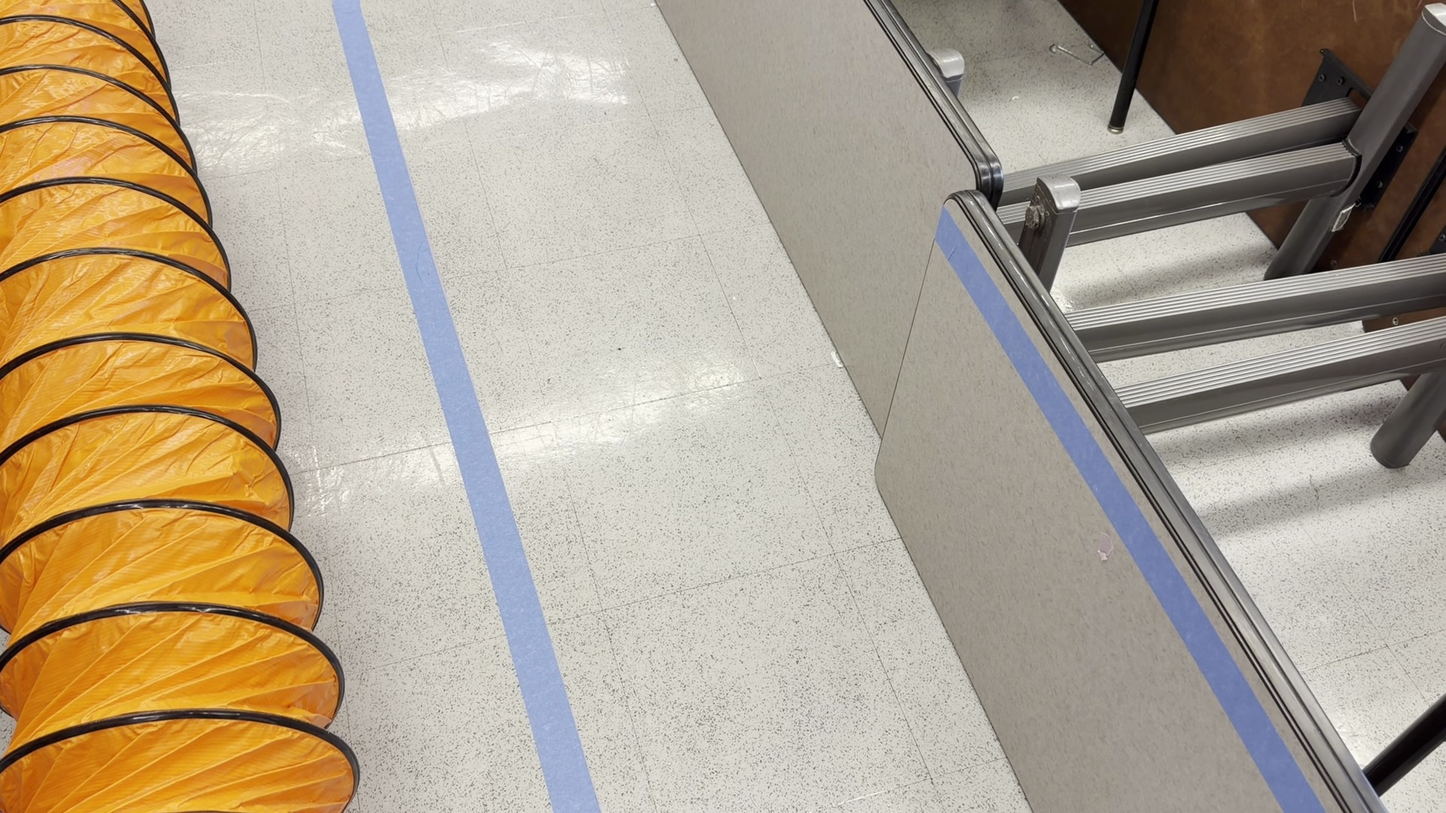racecar: (669, 3, 1443, 813)
